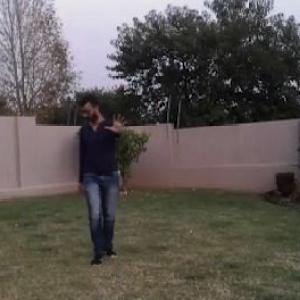follow_hand: (104, 108, 130, 134)
